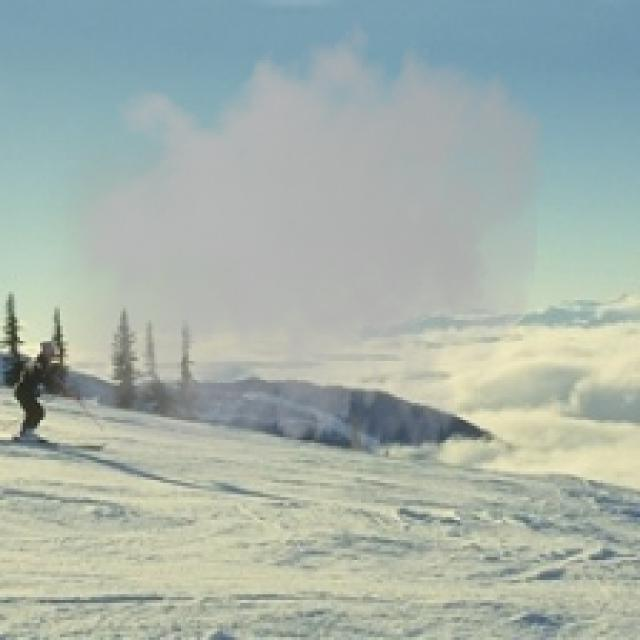smoke: (29, 6, 548, 523)
